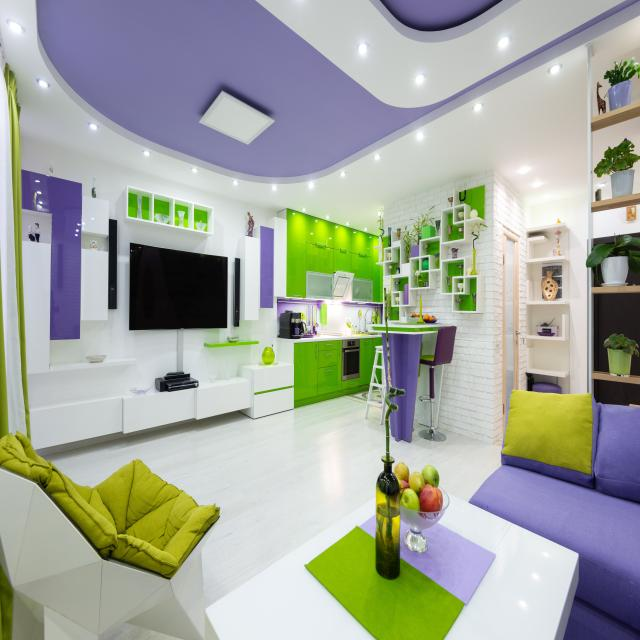floor: (34, 397, 387, 611), (389, 416, 503, 503)
wall: (20, 137, 278, 412), (383, 169, 494, 444), (531, 194, 588, 393), (493, 169, 532, 444), (123, 185, 214, 238), (316, 304, 374, 333), (592, 204, 640, 239), (277, 299, 318, 338), (448, 235, 477, 271), (22, 214, 52, 244), (534, 231, 557, 258), (81, 235, 108, 252), (532, 264, 542, 301), (558, 374, 569, 394), (472, 224, 479, 238), (400, 233, 406, 241), (427, 220, 433, 226), (411, 241, 417, 246), (412, 235, 417, 240), (409, 235, 414, 239), (410, 239, 414, 244), (412, 230, 415, 235), (425, 218, 427, 223), (415, 225, 418, 228), (415, 231, 417, 235), (420, 222, 422, 225), (416, 223, 418, 226), (424, 222, 425, 226), (417, 232, 419, 234), (419, 226, 421, 228), (416, 222, 417, 225), (419, 219, 420, 222), (420, 234, 421, 236), (413, 245, 415, 246), (417, 221, 418, 223), (419, 222, 419, 226), (419, 220, 419, 222)
